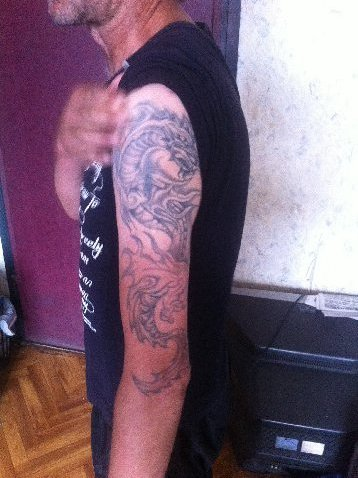tatu6_drakon: (109, 93, 206, 426)
